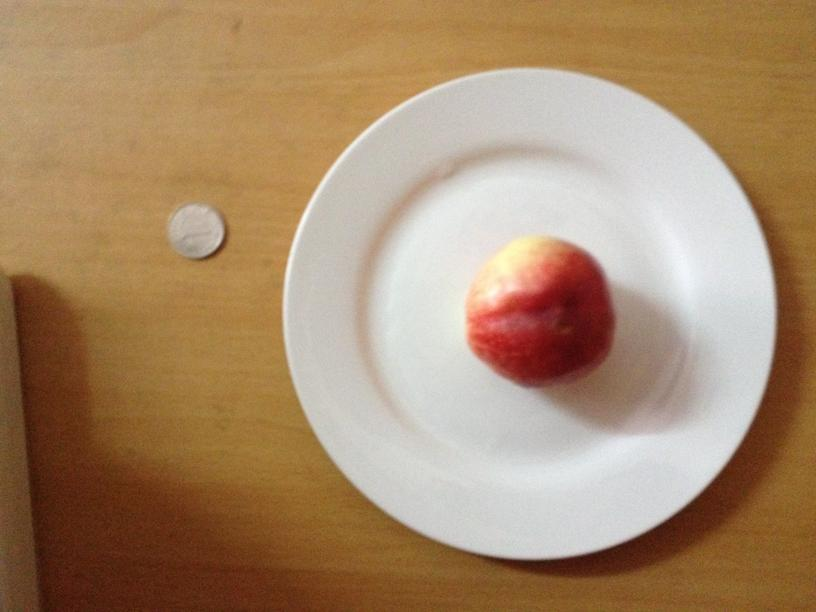coin: (166, 202, 226, 260)
peach: (460, 236, 611, 384)
